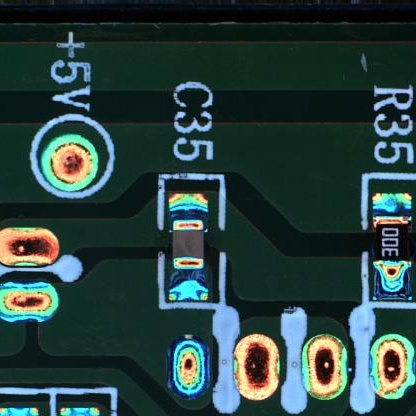spot: (300, 333, 349, 402), (42, 132, 100, 188), (166, 332, 213, 401), (369, 332, 416, 401), (234, 333, 280, 401), (1, 279, 60, 324), (1, 225, 60, 266)
